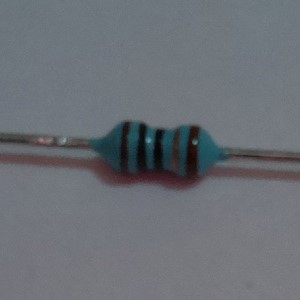black_band: (152, 127, 166, 173), (136, 120, 148, 173)
brown_band: (184, 124, 203, 180), (119, 118, 131, 178)
gold_band: (169, 125, 182, 175)
